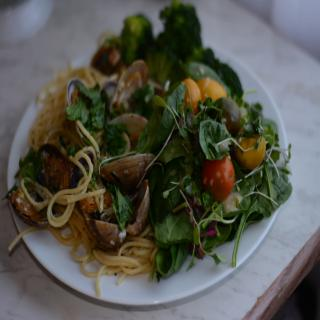tomato: (203, 155, 236, 197)
